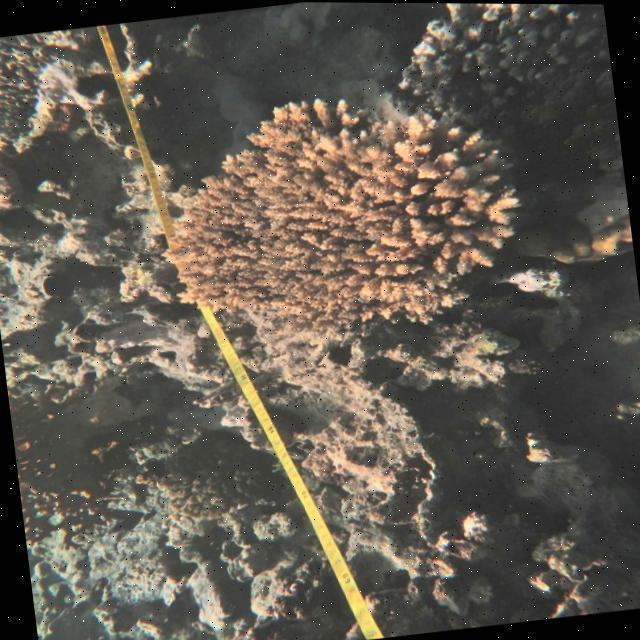Healthy Coral: (148, 73, 525, 346)
